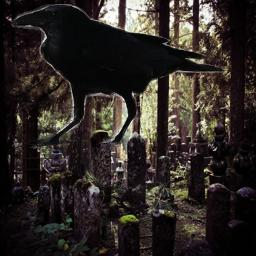Crow: (11, 4, 229, 149)
